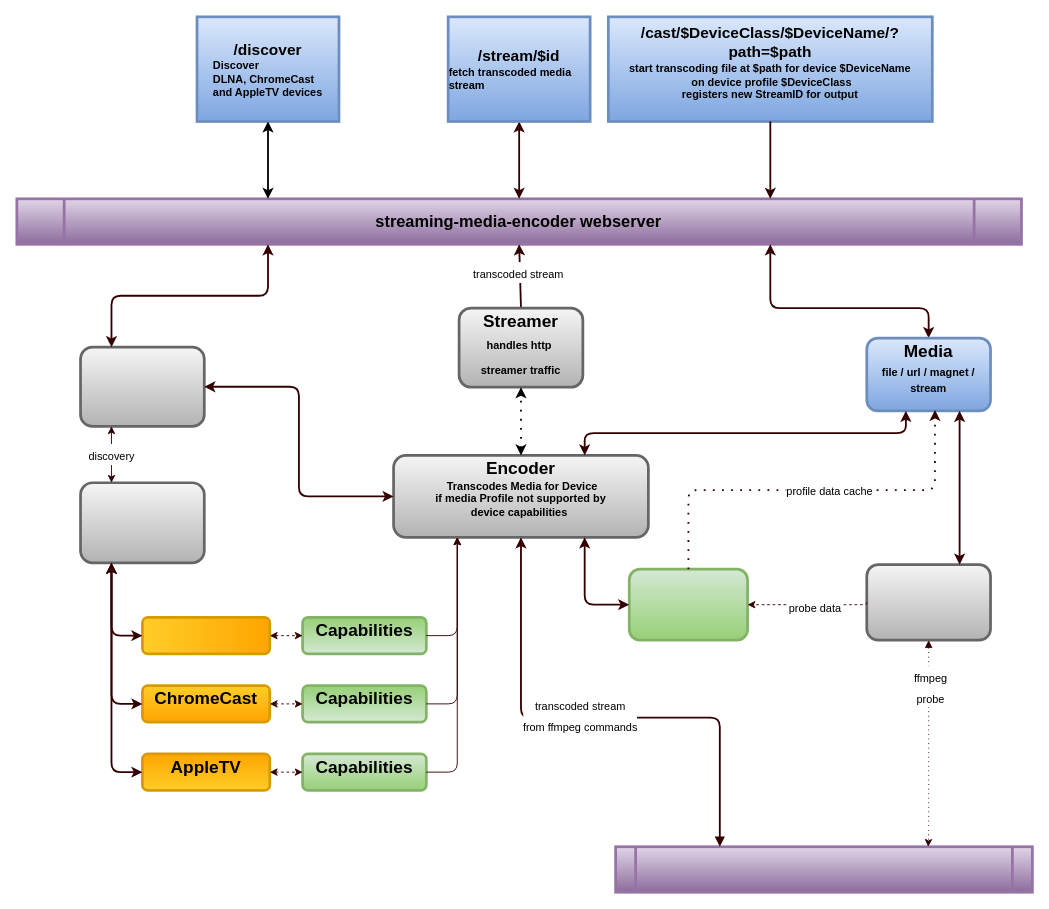
Some shapes in this 1049 by 909 pixel diagram are drawn without their labels. Here are the shapes that lost their labels. From the top down, the centre of each, then its label:
[142,386]: Engine base programming interface
[142,522]: DeviceList performs discovery and caches device capabilities
[687,604]: Profile video/audio streams/codecs
[928,602]: Analyzer find video/audio codecs in media
[206,635]: DLNA
[823,869]: FFm peg webserver
